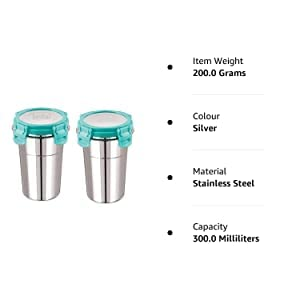500.0: (193, 235, 216, 242)
Steet: (233, 168, 254, 196)
